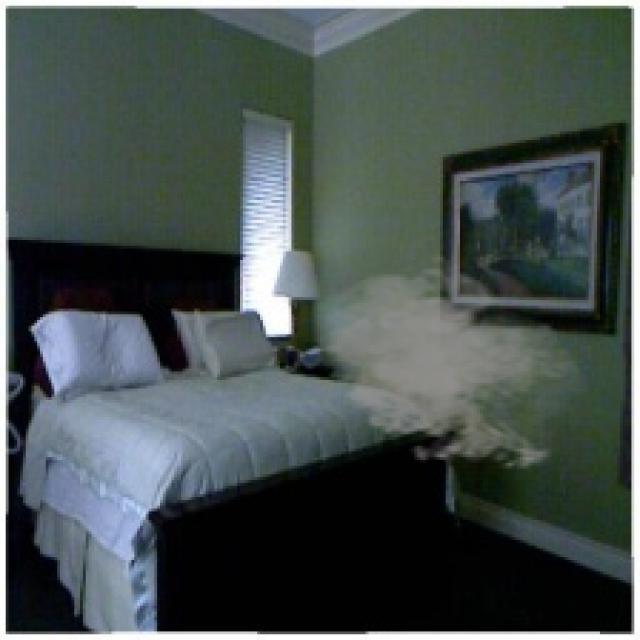Smoke: (314, 252, 589, 474)
